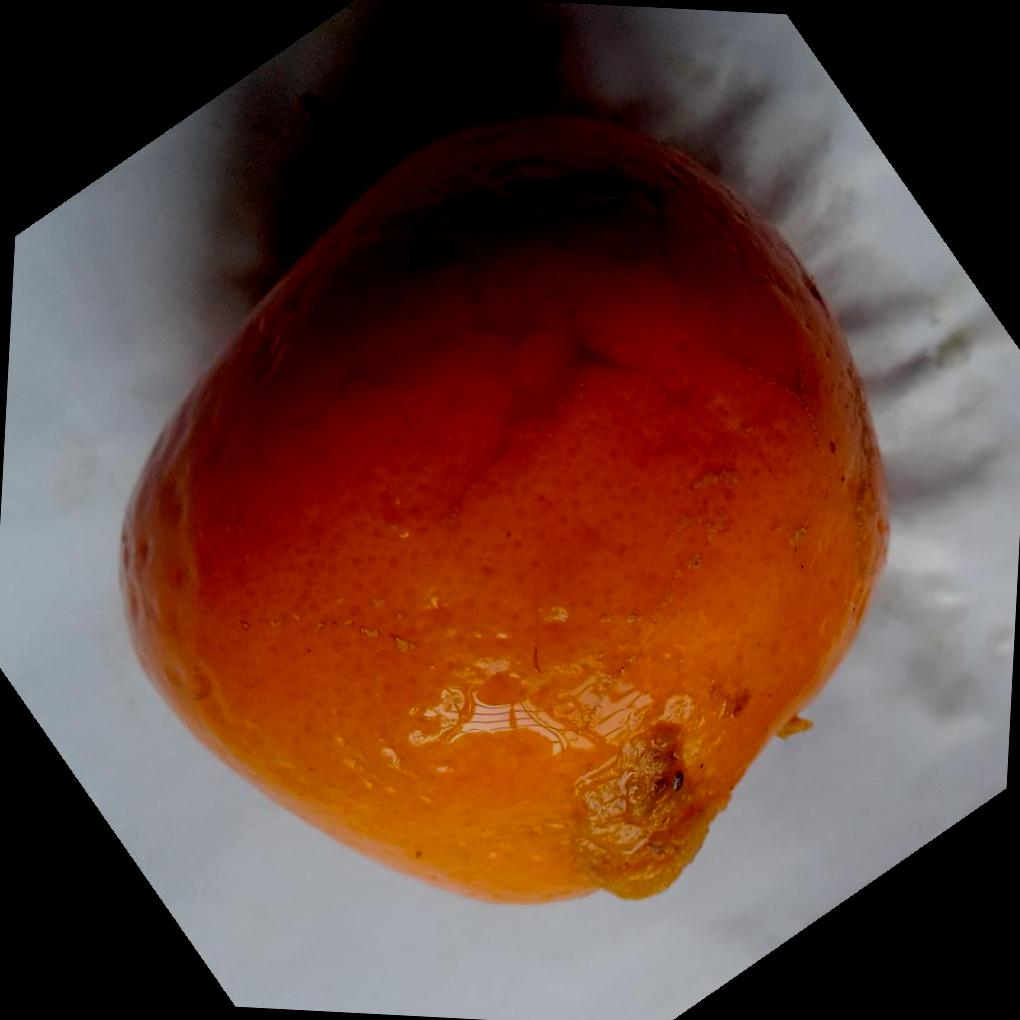FreshOrange: (115, 110, 888, 906)
